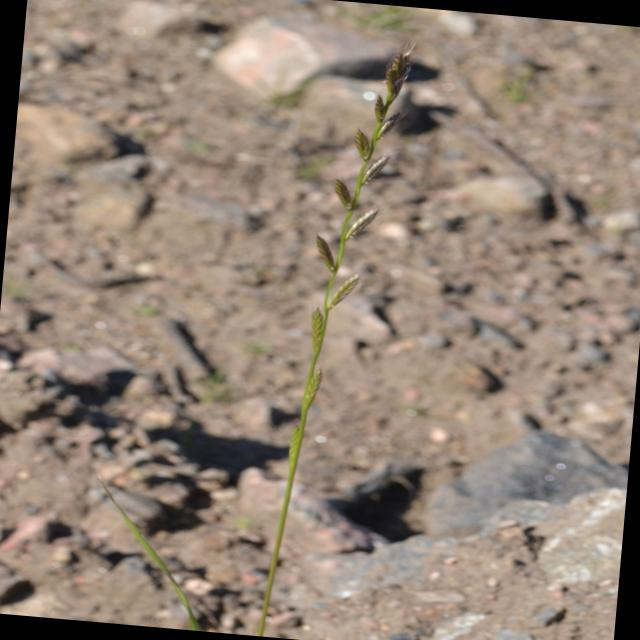Lolium: (251, 30, 423, 640)
